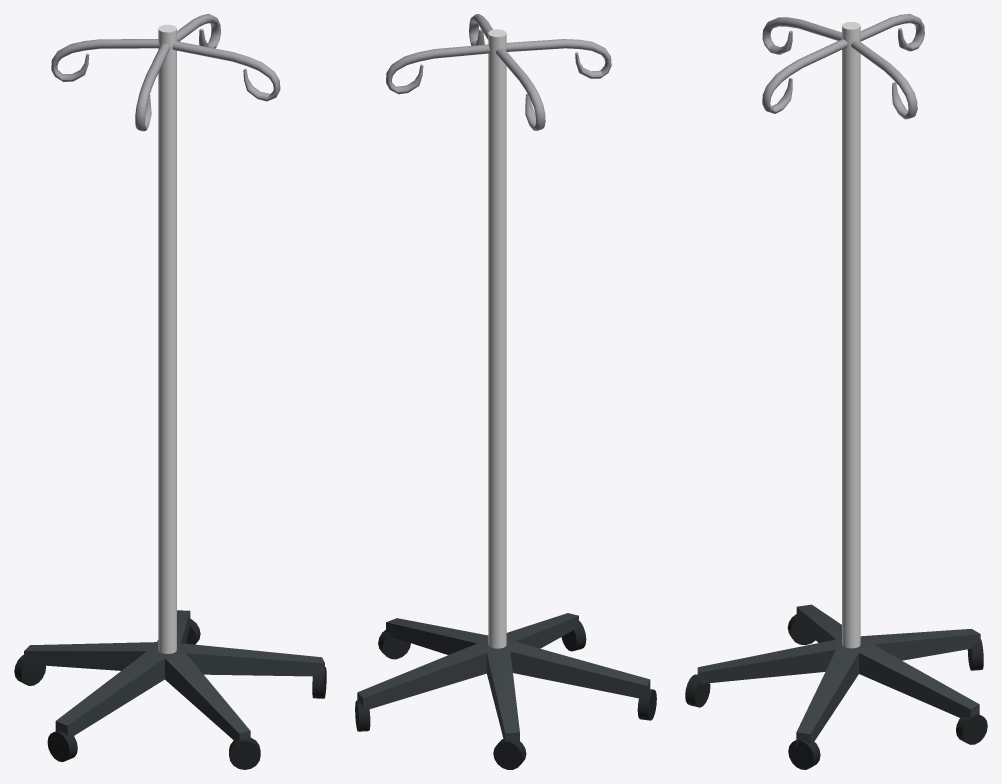
File: SM_IVStand.fbx
3 views of the same model, side by side, from view 1: azimuth 30°, elevation 25°; view 2: azimuth 150°, elevation 25°; view 3: azimuth 270°, elevation 25° (orthographic).
Parts seen in each view (by area): view 1: SM_IVStand; view 2: SM_IVStand; view 3: SM_IVStand.
Boxes of the visible parts, x1,y1,x2,y2 form: SM_IVStand: (14, 14, 326, 769); SM_IVStand: (355, 14, 656, 769); SM_IVStand: (685, 14, 987, 769).
Size of the model in its own units: 112 by 265 by 107.
